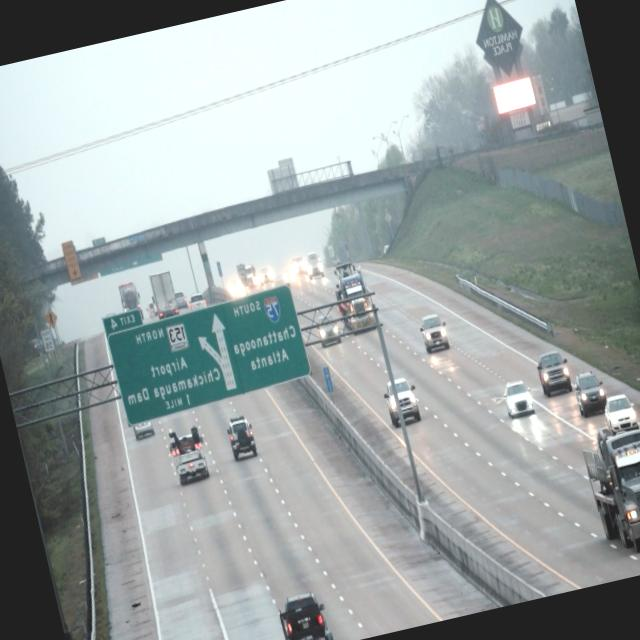Vehicle: (579, 419, 640, 555), (328, 255, 378, 336), (163, 420, 213, 490), (270, 590, 334, 640), (379, 372, 423, 427), (569, 367, 608, 418), (222, 409, 258, 462), (533, 350, 572, 398), (415, 312, 453, 360), (500, 376, 533, 420), (602, 393, 638, 433), (313, 309, 342, 347)
